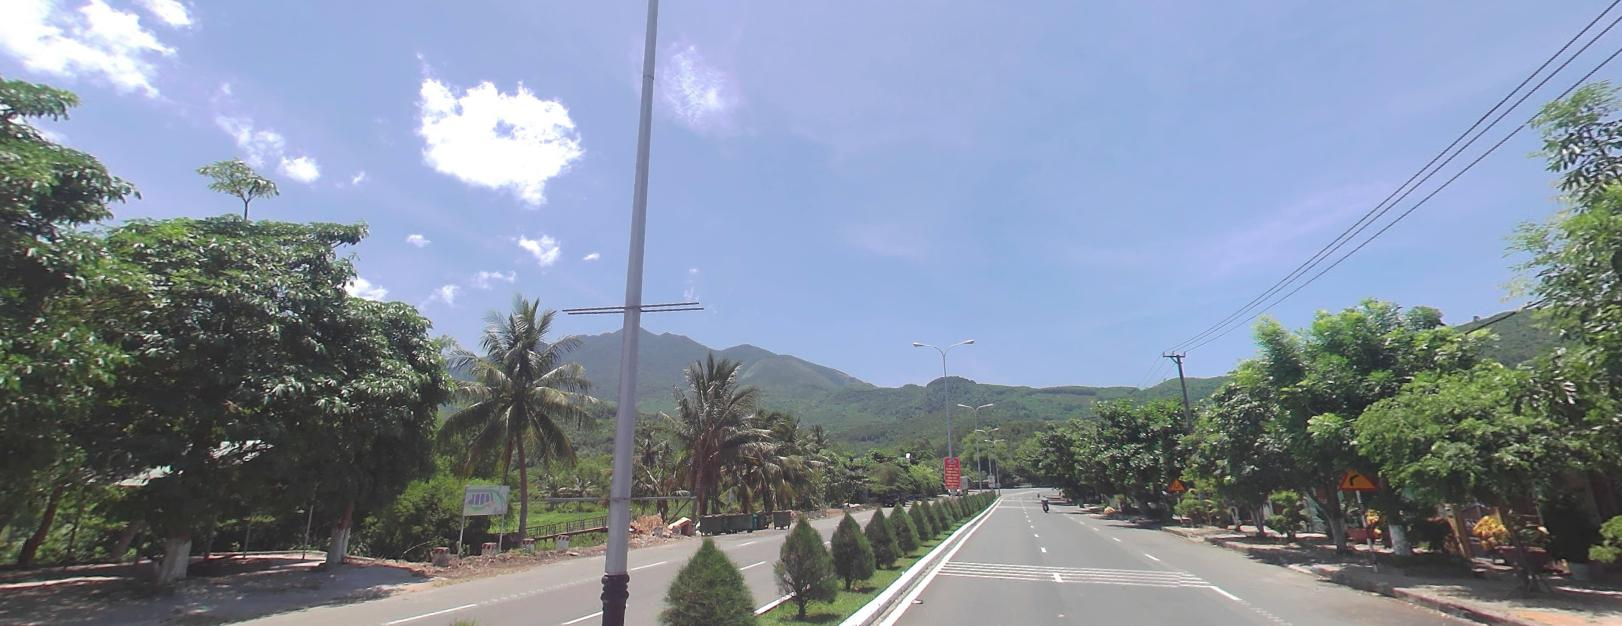Nguy hiem: (1338, 461, 1379, 496), (1168, 477, 1187, 491)
